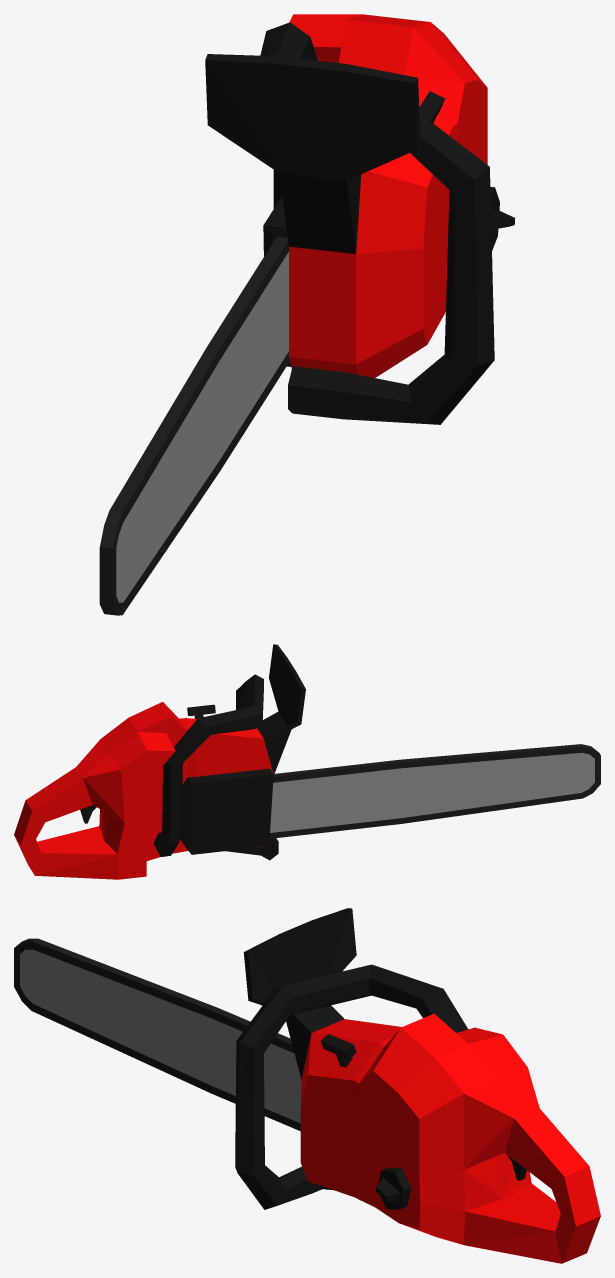
File: chainsaw.fbx
The picture shows the model from 3 angles, top to bottom: view 1: azimuth 30°, elevation 25°; view 2: azimuth 150°, elevation 25°; view 3: azimuth 270°, elevation 25°; orthographic projection. The views are drawn at different scales.
Visible parts, largest first — view 1: chainsaw001; view 2: chainsaw001; view 3: chainsaw001.
Part boxes in pixels (box(x1,y1,x2,y2)): chainsaw001: box(99, 14, 515, 615); chainsaw001: box(14, 644, 600, 879); chainsaw001: box(14, 908, 600, 1263).
Size of what is drawn, in the model's own units: 69.01 by 32.46 by 68.06.
